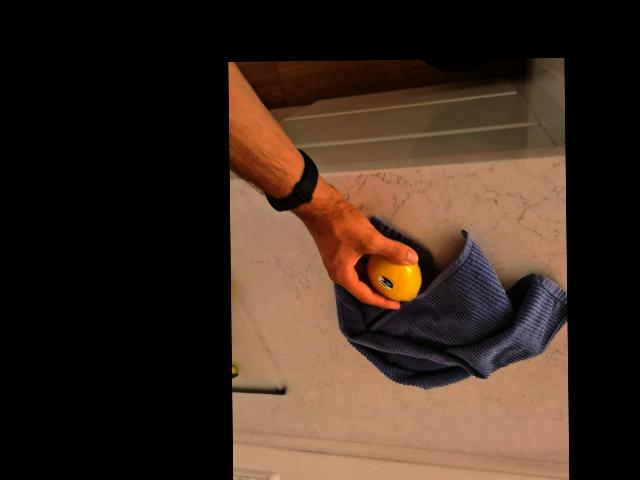lemon: (364, 245, 423, 300)
